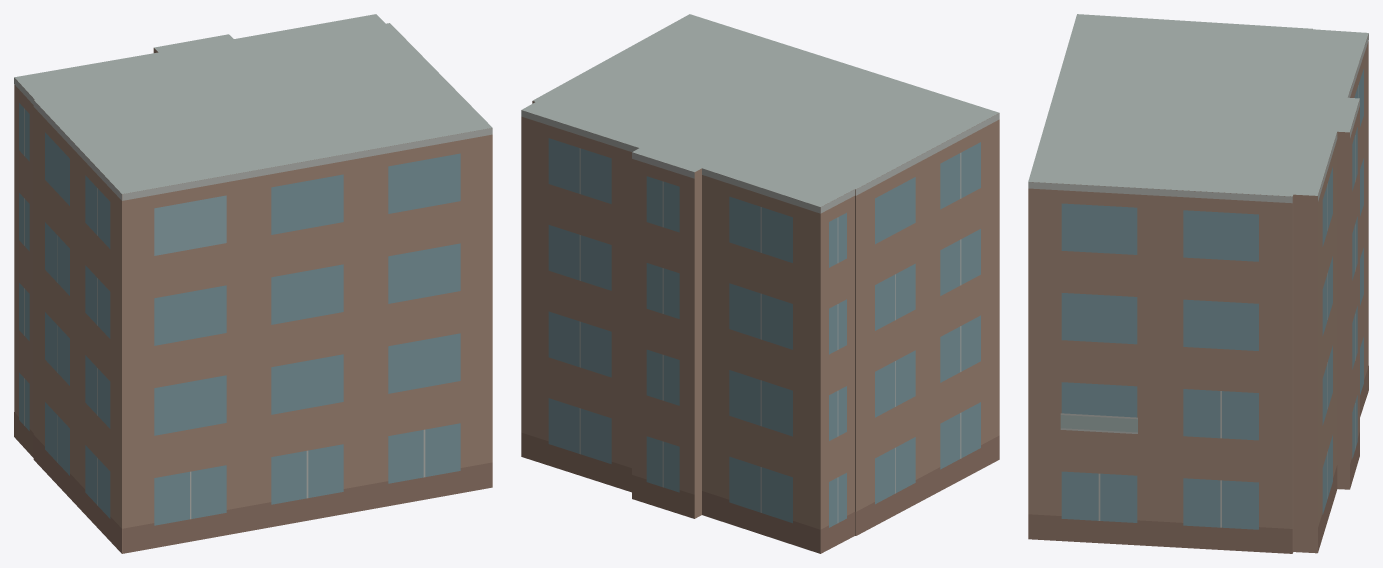
File: survey-upis-32654972.glb
3 views of the same model, side by side, from view 1: azimuth 30°, elevation 25°; view 2: azimuth 150°, elevation 25°; view 3: azimuth 270°, elevation 25° (orthographic). The views are drawn at different scales.
Parts seen in each view (by area): view 1: survey-upis-32654972.tmp; view 2: survey-upis-32654972.tmp; view 3: survey-upis-32654972.tmp.
Boxes of the visible parts, box(x1,y1,x2,y2) form: survey-upis-32654972.tmp: box(14, 14, 492, 553); survey-upis-32654972.tmp: box(521, 14, 999, 553); survey-upis-32654972.tmp: box(1028, 14, 1368, 553).
Size of the model in its own units: 14.25 by 13 by 11.24.
